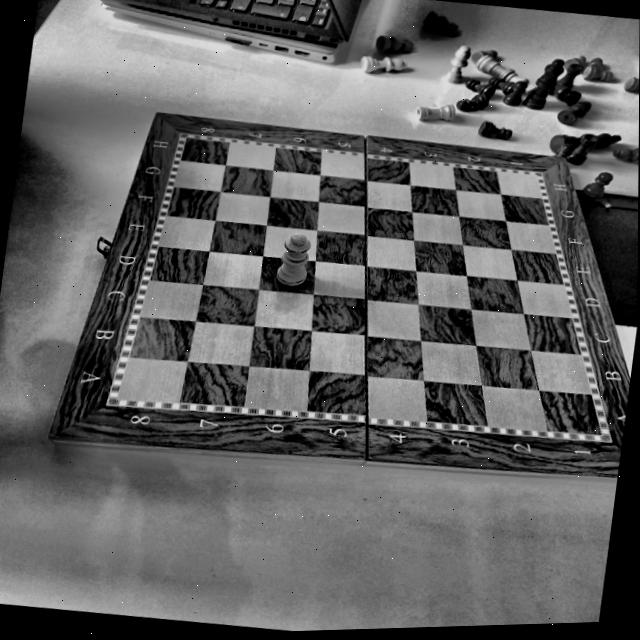white-queen: (271, 228, 319, 292)
